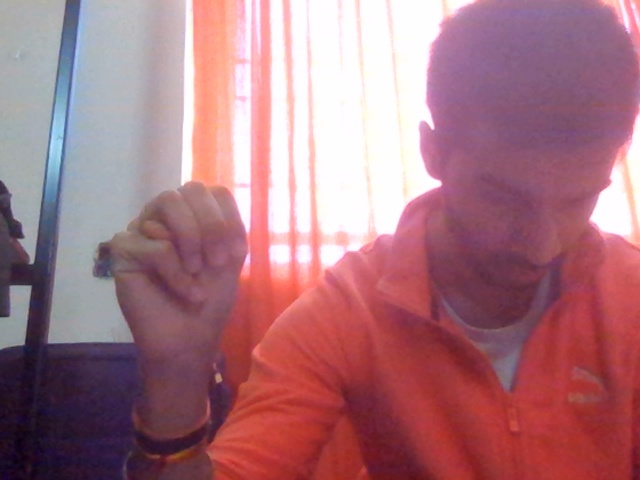M: (89, 145, 327, 453)
